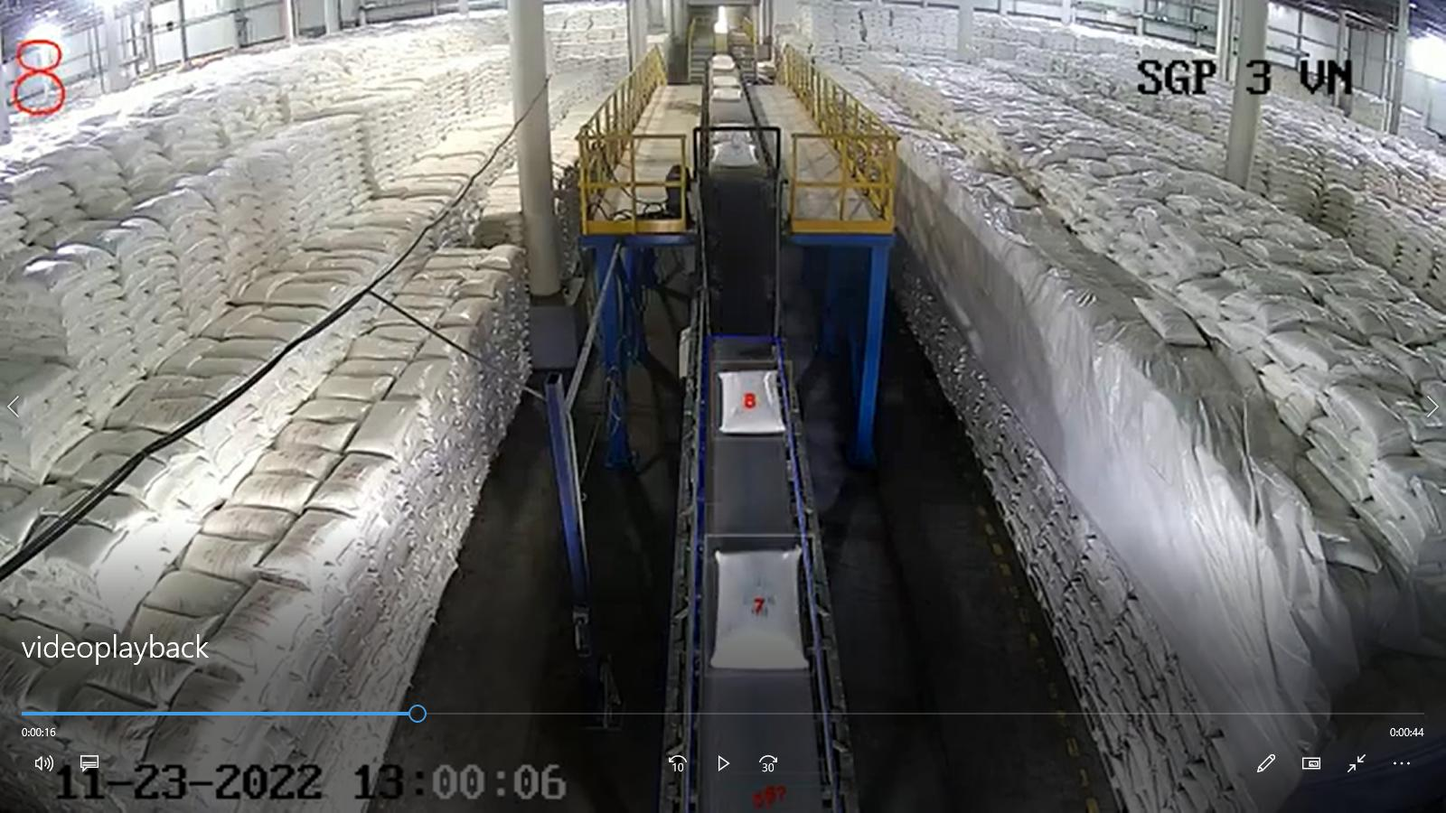rice-bag: (710, 547, 805, 670), (718, 369, 784, 435)
